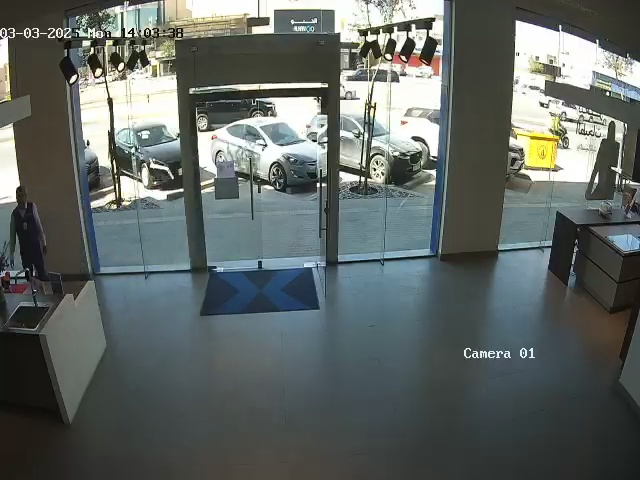employee: (8, 186, 48, 280)
